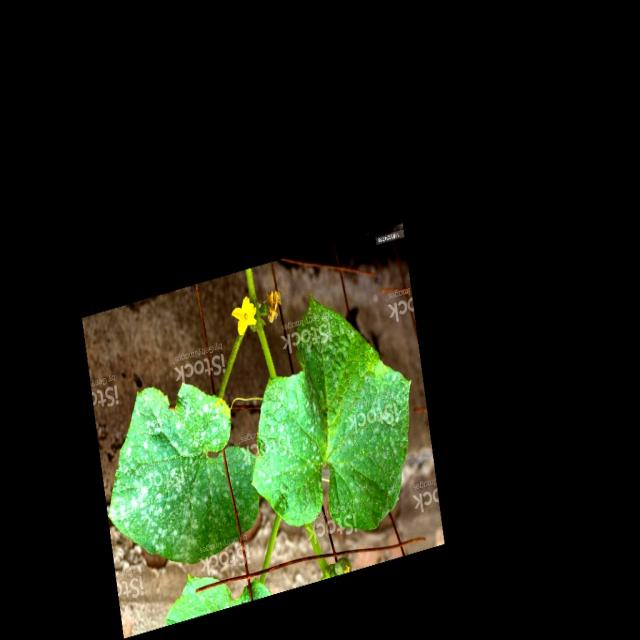Powdery_Mildew: (250, 292, 411, 535), (118, 380, 250, 565)
